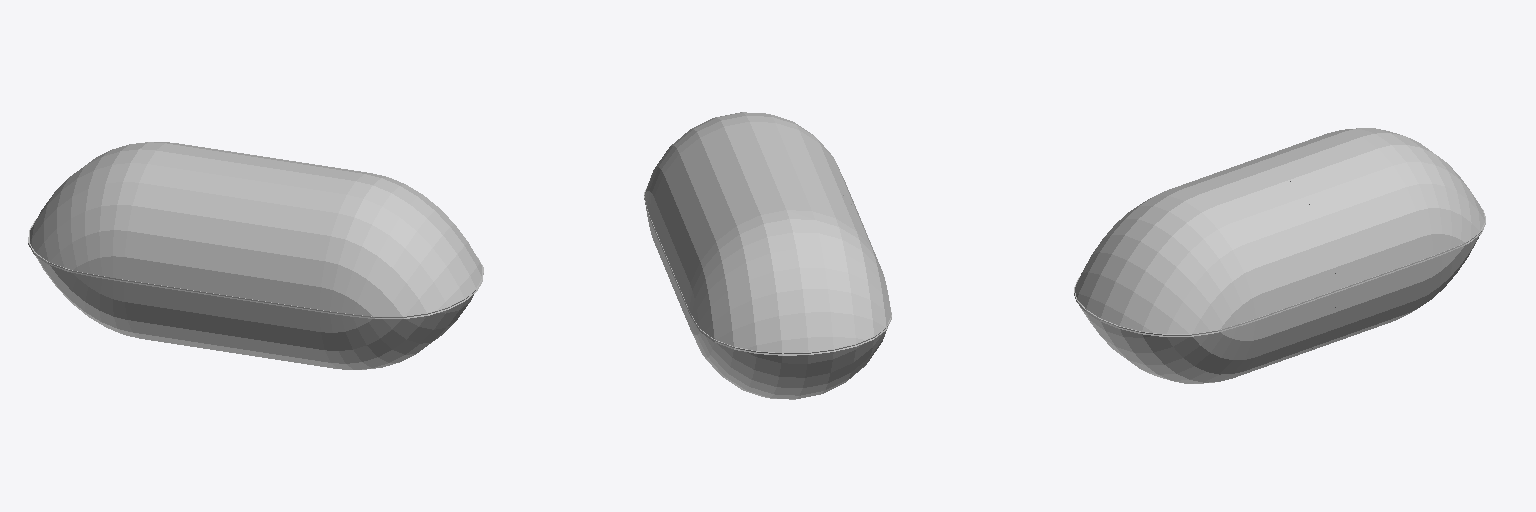
File: Soap.obj
The picture shows the model from 3 angles: view 1: azimuth 30°, elevation 25°; view 2: azimuth 150°, elevation 25°; view 3: azimuth 270°, elevation 25°; orthographic projection.
Parts seen in each view (by area): view 1: mergedBlocks; view 2: mergedBlocks; view 3: mergedBlocks.
Boxes of the visible parts, box(x1,y1,x2,y2) form: mergedBlocks: box(28, 142, 483, 369); mergedBlocks: box(644, 112, 891, 399); mergedBlocks: box(1074, 128, 1485, 383).
Bounding box in the file's own units: 0.1929 × 0.1014 × 0.2103.